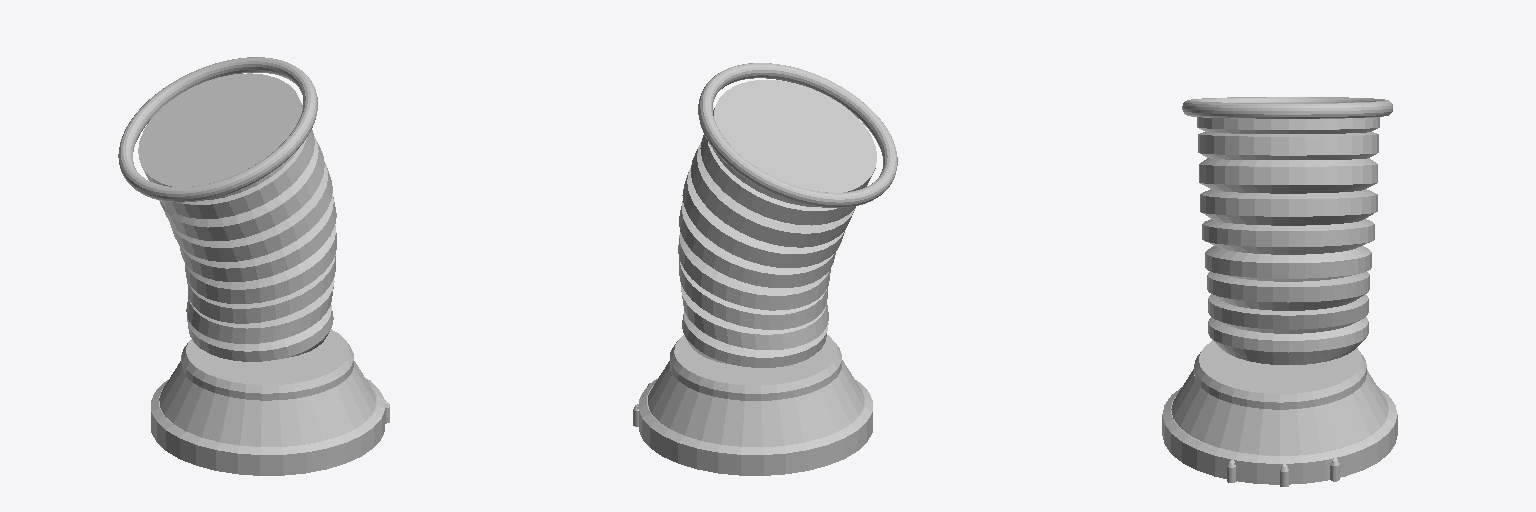
Rendered from pata_trasera_derecha.obj.
3 renders of one model, left to right at view 1: azimuth 30°, elevation 25°; view 2: azimuth 150°, elevation 25°; view 3: azimuth 270°, elevation 25°, orthographic.
Parts seen in each view (by area): view 1: C_rculo_005_C_rculo_006, C_rculo_018_C_rculo_019, C_rculo_019_C_rculo_020, C_rculo_002, C_rculo_017_C_rculo_018; view 2: C_rculo_005_C_rculo_006, C_rculo_018_C_rculo_019, C_rculo_019_C_rculo_020, C_rculo_002, C_rculo_017_C_rculo_018; view 3: C_rculo_005_C_rculo_006, C_rculo_018_C_rculo_019, C_rculo_017_C_rculo_018, C_rculo_019_C_rculo_020, C_rculo_002, Cilindro_004_Cilindro_007.
Boxes of the visible parts, x1,y1,x2,y2 form: C_rculo_005_C_rculo_006: [138, 73, 336, 361]; C_rculo_018_C_rculo_019: [159, 361, 375, 446]; C_rculo_019_C_rculo_020: [151, 379, 384, 475]; C_rculo_002: [118, 57, 317, 202]; C_rculo_017_C_rculo_018: [181, 329, 353, 400]; C_rculo_005_C_rculo_006: [678, 80, 876, 367]; C_rculo_018_C_rculo_019: [648, 360, 864, 446]; C_rculo_019_C_rculo_020: [639, 379, 872, 475]; C_rculo_002: [698, 63, 897, 207]; C_rculo_017_C_rculo_018: [670, 335, 841, 400]; C_rculo_005_C_rculo_006: [1197, 117, 1379, 364]; C_rculo_018_C_rculo_019: [1171, 369, 1388, 455]; C_rculo_017_C_rculo_018: [1194, 340, 1366, 409]; C_rculo_019_C_rculo_020: [1162, 387, 1397, 484]; C_rculo_002: [1182, 97, 1392, 118]; Cilindro_004_Cilindro_007: [1227, 458, 1339, 486].
Size of the model in its own units: 1.2 by 1.68 by 1.03.